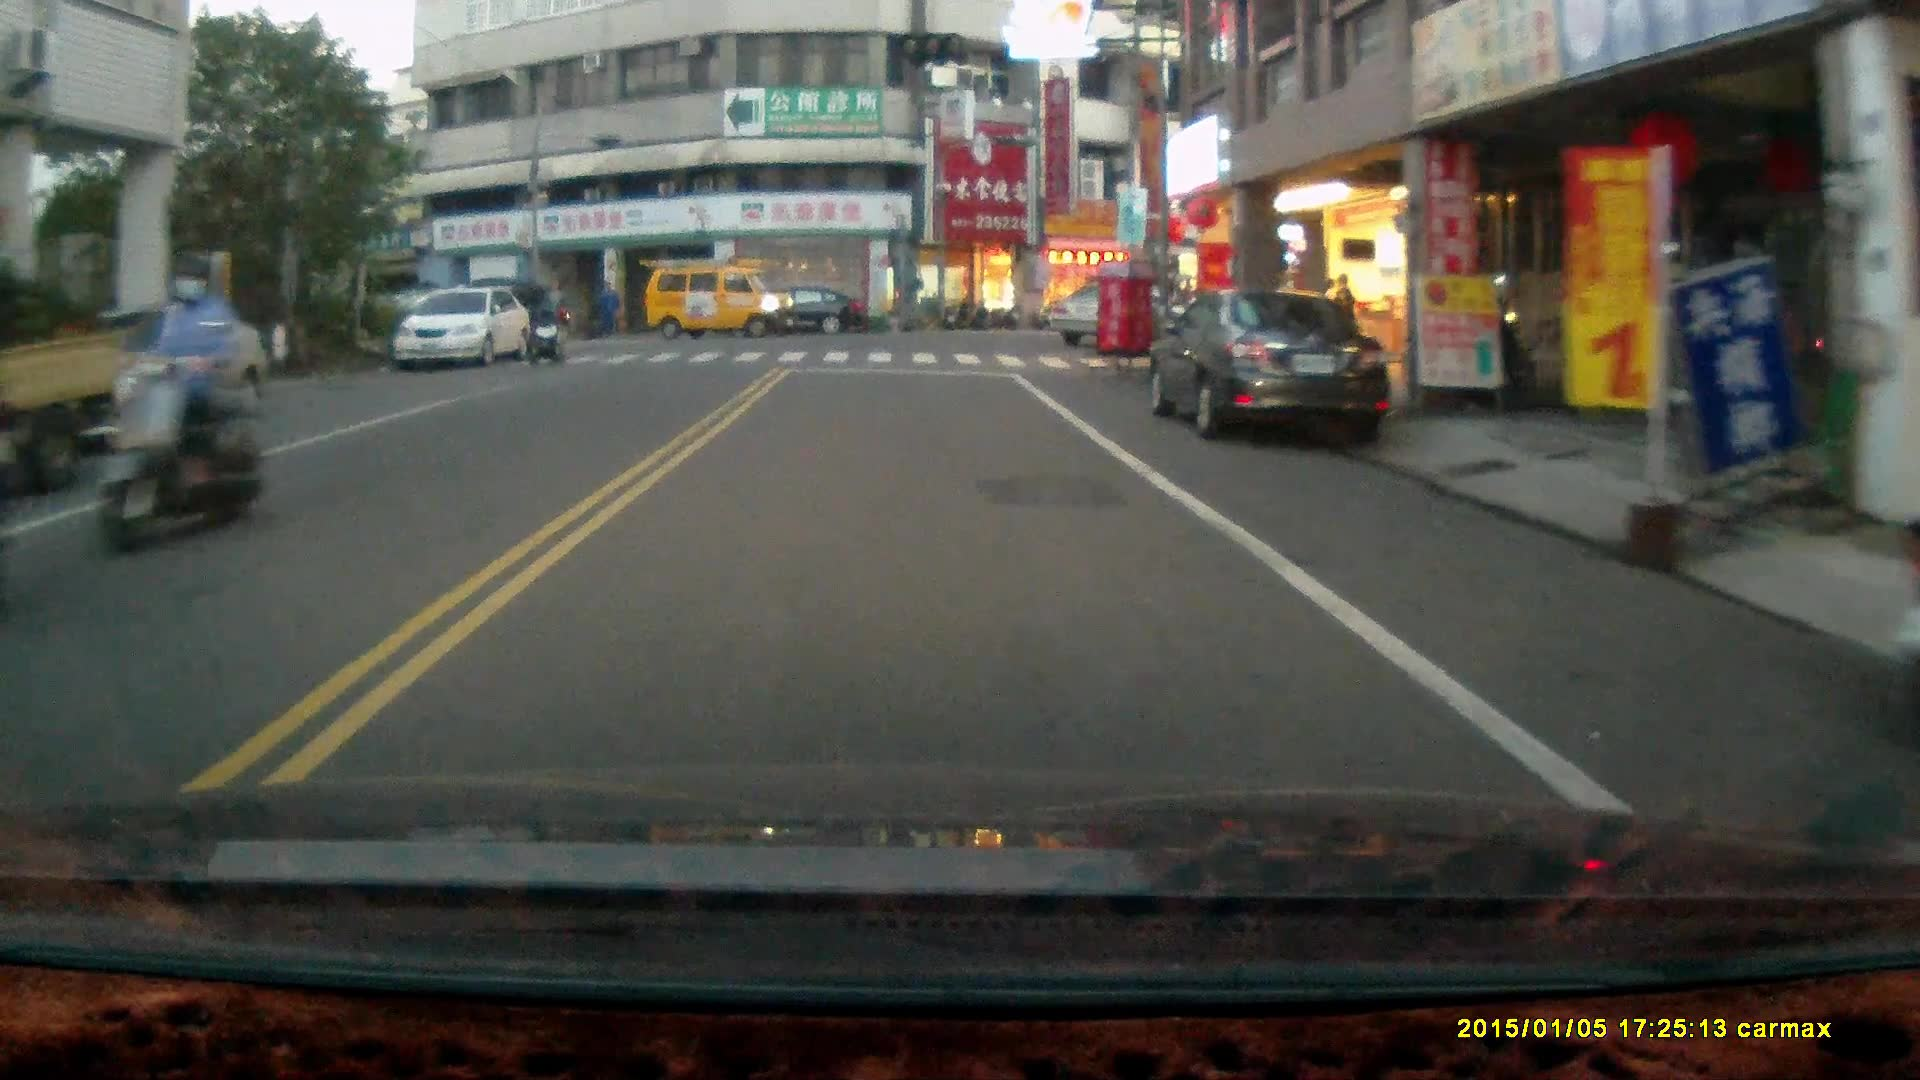pedestrian: (1333, 275, 1359, 367), (542, 274, 565, 345)
rider: (91, 252, 260, 557), (522, 301, 570, 366)
vehicle: (1147, 290, 1399, 453), (1, 279, 166, 504), (40, 296, 259, 441), (1043, 276, 1220, 352), (644, 254, 797, 339), (399, 288, 532, 372), (741, 284, 868, 334)
